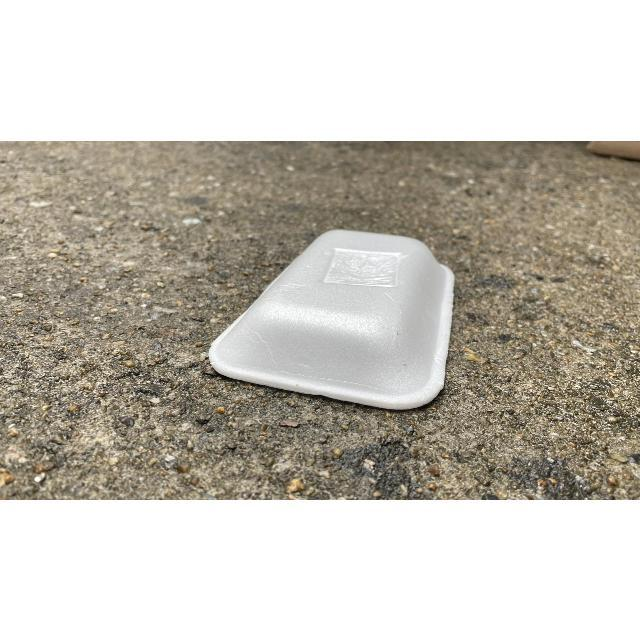Plastico descartable: (207, 229, 454, 413)
